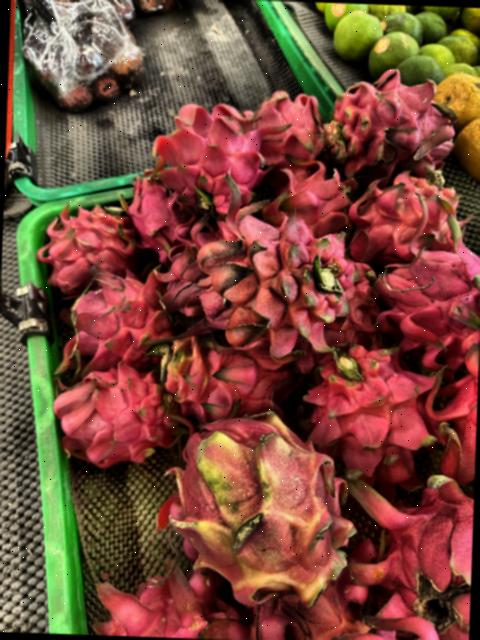buah-naga-belum-matang: (164, 414, 361, 610)
buah-naga-matang: (181, 193, 360, 351), (345, 470, 474, 640), (312, 340, 438, 480), (325, 63, 459, 177), (375, 234, 480, 363), (155, 100, 279, 204), (92, 564, 246, 640), (349, 171, 470, 265), (58, 363, 171, 460), (245, 574, 409, 640), (61, 270, 172, 366), (164, 338, 298, 416), (39, 195, 136, 284), (117, 174, 196, 260), (248, 89, 332, 166), (426, 357, 479, 478), (274, 153, 355, 230)
